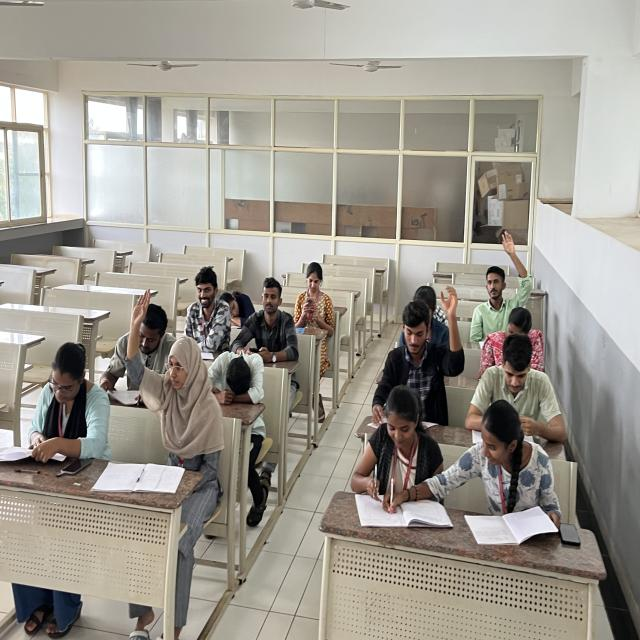Hand Rising: (124, 297, 227, 457), (382, 282, 467, 403), (473, 229, 533, 328)
Reading: (0, 332, 108, 477), (467, 407, 565, 542)
Sleeping: (213, 338, 272, 404), (222, 275, 258, 328)
Using Phone: (240, 281, 303, 368), (283, 260, 338, 324)
Writing: (344, 396, 448, 532)
